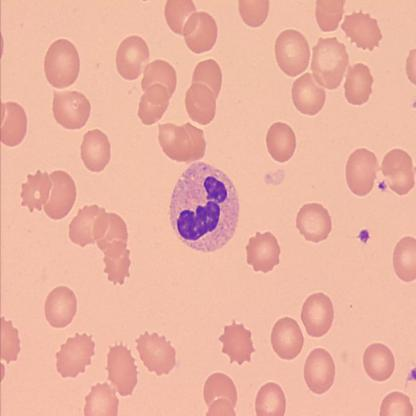Segmented neutrophil: (168, 159, 241, 253)
